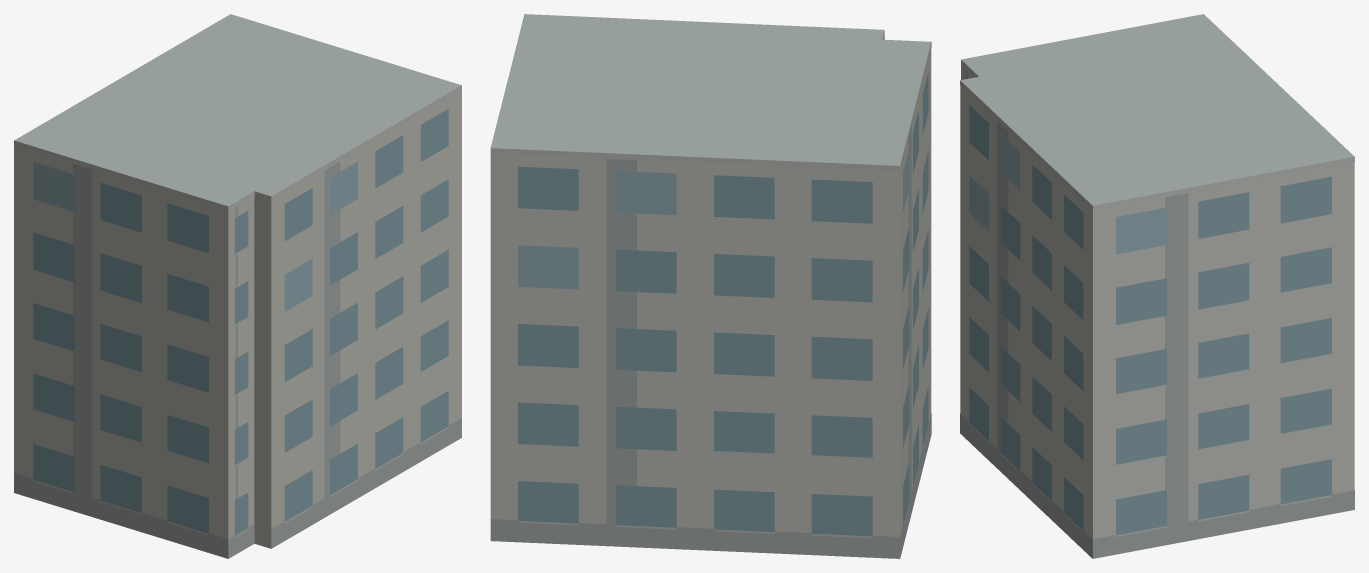
The model's file is survey-upis-33036776.glb.
3 views of the same model, side by side, from view 1: azimuth 30°, elevation 25°; view 2: azimuth 150°, elevation 25°; view 3: azimuth 270°, elevation 25° (orthographic). The views are drawn at different scales.
Parts seen in each view (by area): view 1: survey-upis-33036776.tmp; view 2: survey-upis-33036776.tmp; view 3: survey-upis-33036776.tmp.
Part boxes in pixels (box(x1,y1,x2,y2)): survey-upis-33036776.tmp: box(14, 14, 461, 558); survey-upis-33036776.tmp: box(490, 14, 931, 558); survey-upis-33036776.tmp: box(960, 14, 1354, 558).
Bounding box in the file's own units: 19.66 × 16.87 × 17.1.
